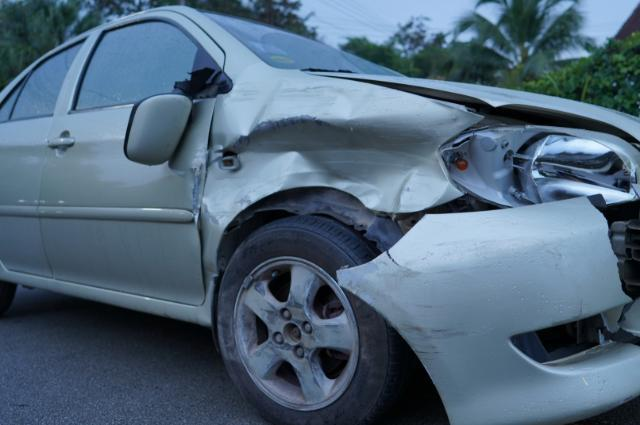Bumper: (352, 208, 640, 425)
Fender: (206, 89, 449, 229)
Light: (450, 119, 633, 207)
